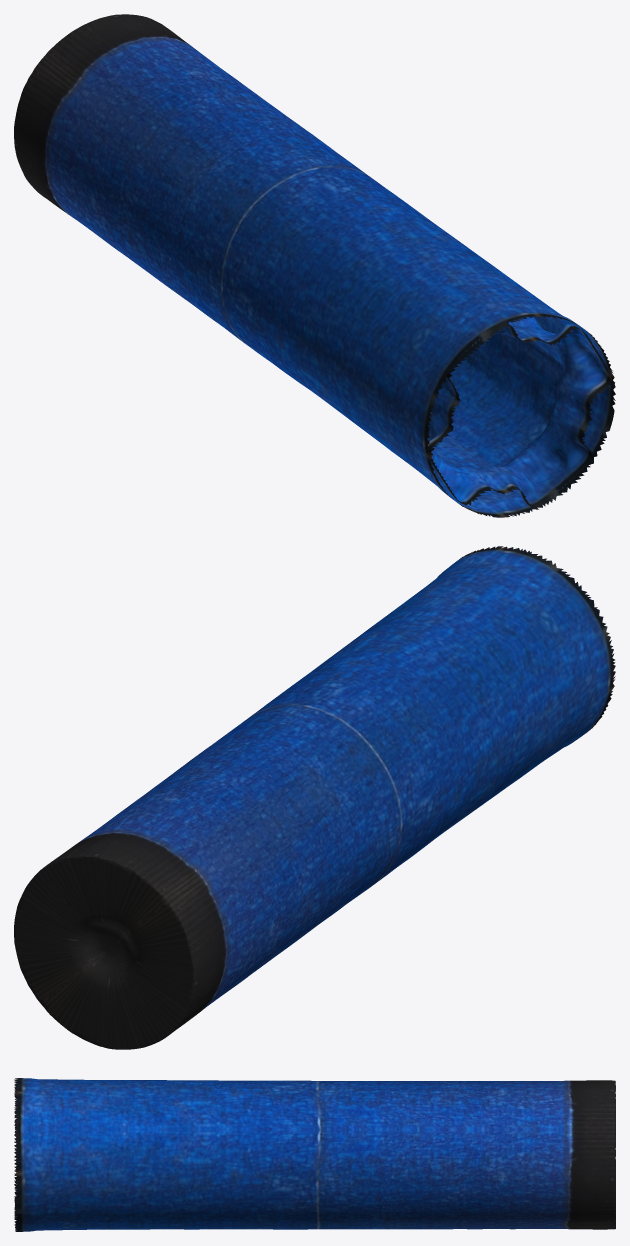
File: pen.obj
The picture shows the model from 3 angles, top to bottom: view 1: azimuth 30°, elevation 25°; view 2: azimuth 150°, elevation 25°; view 3: azimuth 270°, elevation 25°; orthographic projection. The views are drawn at different scales.
Bounding box in the file's own units: 0.027 × 0.027 × 0.1054.
1 material, 1 textured.
